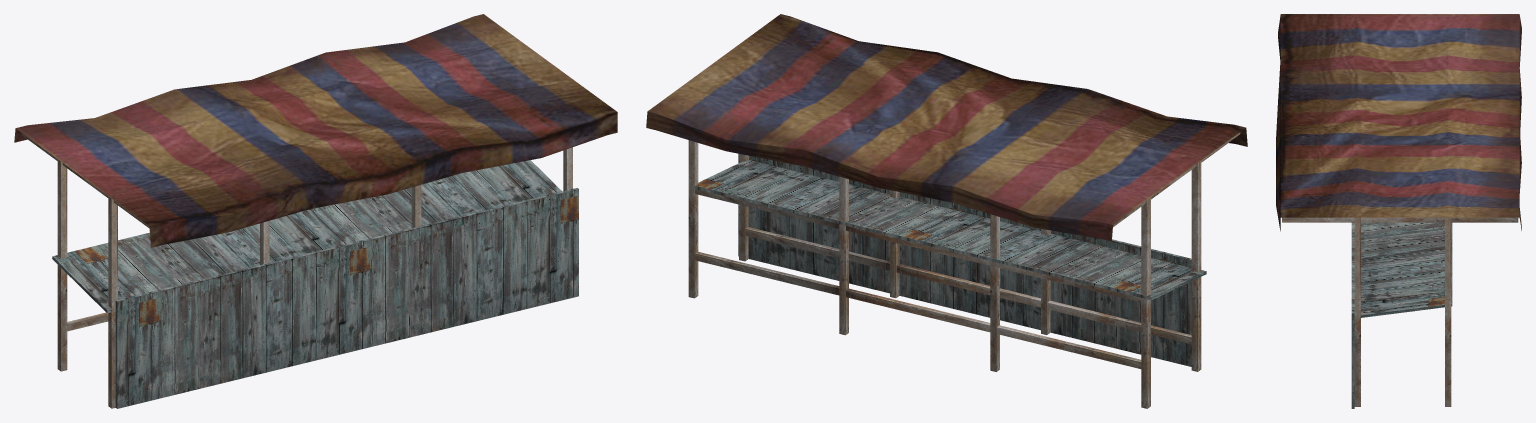
Rendered from MarketStand.fbx.
3 renders of one model, left to right at view 1: azimuth 30°, elevation 25°; view 2: azimuth 150°, elevation 25°; view 3: azimuth 270°, elevation 25°, orthographic. The views are drawn at different scales.
Visible parts, largest first — view 1: plachta, deska02, deska01, tram_18, tram_01; view 2: plachta, deska02, deska01, tram_14, tram_13, tram_12, tram_01, tram_18, tram_17, tram_16, tram_15, tram_04 (+2 smaller); view 3: plachta, deska01, tram_08, tram_04, tram_17, deska02.
Boxes of the visible parts, x1,y1,x2,y2 form: plachta: (14, 14, 617, 247); deska02: (115, 188, 578, 408); deska01: (52, 160, 562, 313); tram_18: (57, 159, 67, 371); tram_01: (108, 196, 117, 408); plachta: (646, 14, 1247, 241); deska02: (738, 153, 1191, 366); deska01: (692, 160, 1206, 300); tram_14: (695, 251, 1141, 368); tram_13: (745, 227, 1191, 344); tram_12: (695, 189, 1141, 302); tram_01: (1191, 161, 1201, 371); tram_18: (1141, 197, 1150, 408); tram_17: (688, 140, 698, 298); tram_16: (839, 176, 848, 335); tram_15: (990, 214, 999, 371); tram_04: (739, 154, 748, 261); plachta: (1276, 14, 1521, 231); deska01: (1361, 222, 1452, 317); tram_08: (1282, 217, 1518, 222); tram_04: (1354, 217, 1360, 406); tram_17: (1445, 217, 1451, 406); deska02: (1351, 222, 1354, 408).
Size of what is drawn, in the model's own units: 558 by 242 by 283.
